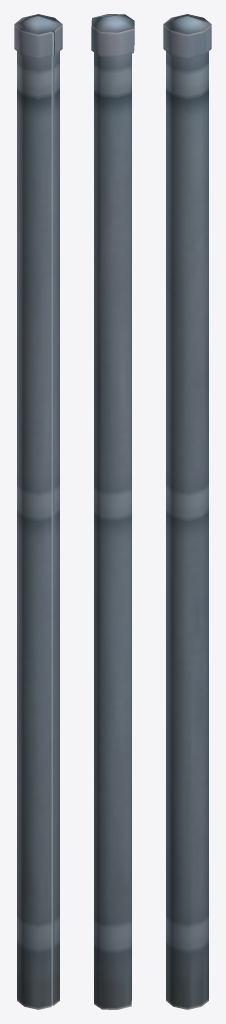
Rendered from ChainlinkFencePost.fbx.
The picture shows the model from 3 angles, left to right: view 1: azimuth 90°, elevation 25°; view 2: azimuth 150°, elevation 25°; view 3: azimuth 270°, elevation 25°; orthographic projection.
Visible parts, largest first — view 1: ChainlinFencePost; view 2: ChainlinFencePost; view 3: ChainlinFencePost.
Part boxes in pixels (left/top/right/bottom): ChainlinFencePost: left=14, top=14, right=62, bottom=1009; ChainlinFencePost: left=91, top=14, right=134, bottom=1009; ChainlinFencePost: left=163, top=14, right=211, bottom=1009.
Size of the model in its own units: 65.01 by 1455 by 65.01.
